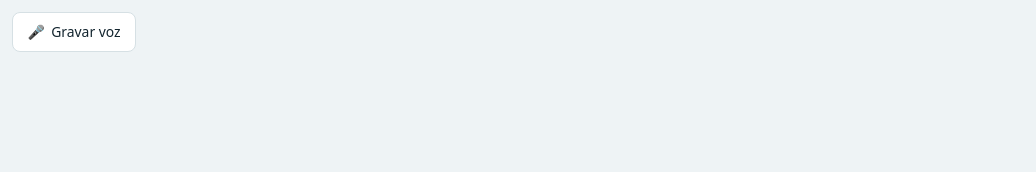
Test: 32-34. gravador de voz › 34. cancelar não envia nada e solta o microfone
Click the button with aria-label "gravar mensagem de voz". click: click(74, 32)
box: [12,12,136,52]
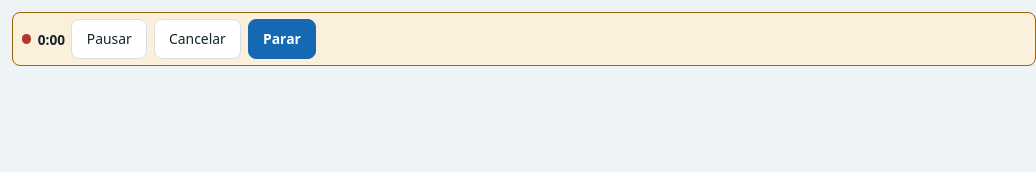
Expected: the button "Cancelar" is shown
Click the button "Cancelar". click: click(197, 39)
box: [154,19,241,59]
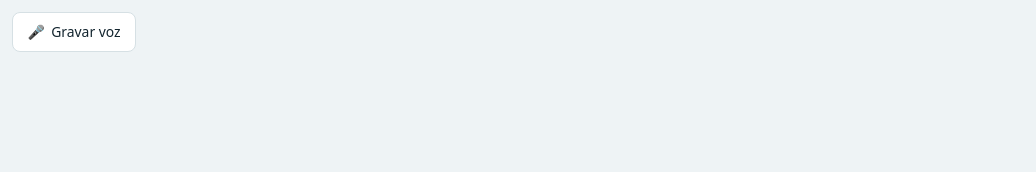
Expected: the button with aria-label "gravar mensagem de voz" is shown, [12,12,136,52]
